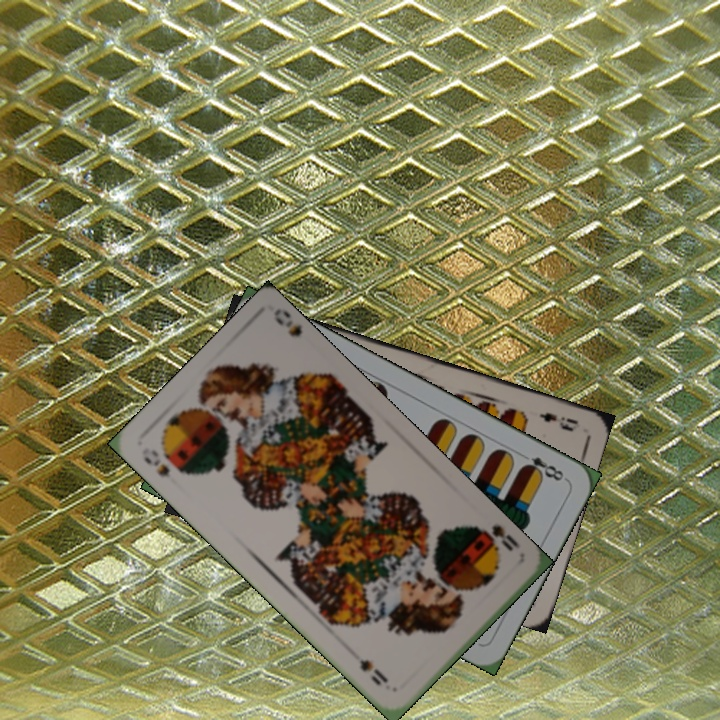E8: (516, 448, 569, 484)
E9: (535, 408, 581, 434)
SO: (469, 520, 523, 554), (140, 445, 173, 481)
